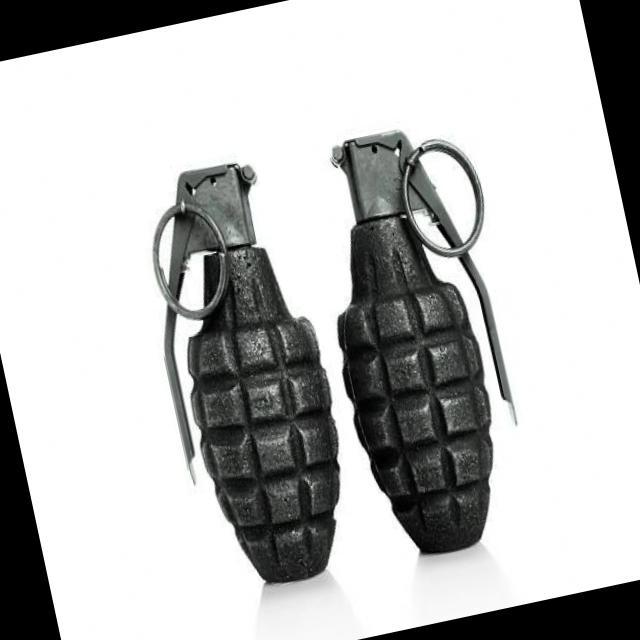grenade: (102, 56, 555, 594)
